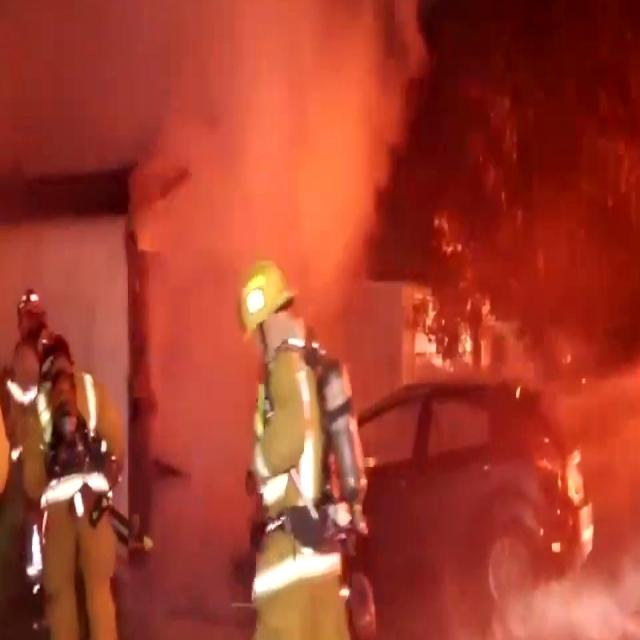smoke: (0, 0, 640, 147), (124, 152, 238, 614)
